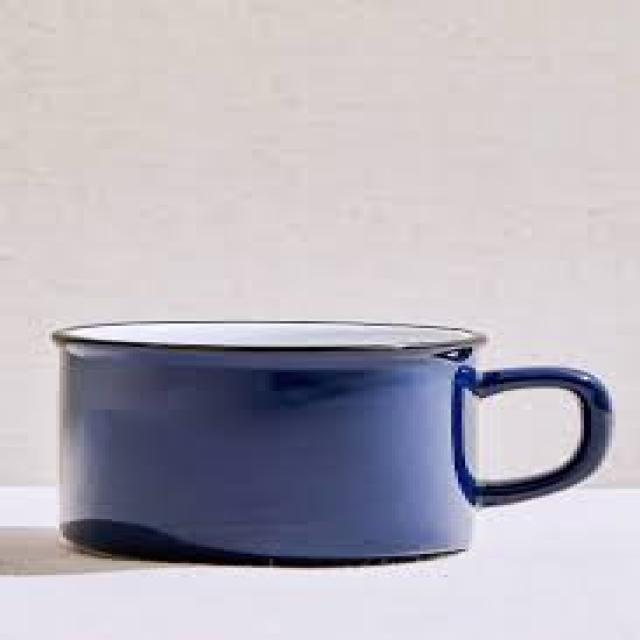taza: (52, 318, 612, 570)
